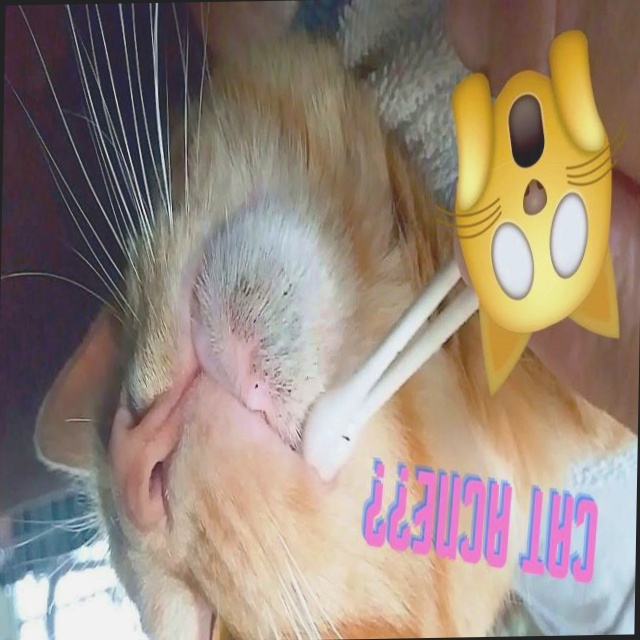acne: (219, 240, 305, 406)
